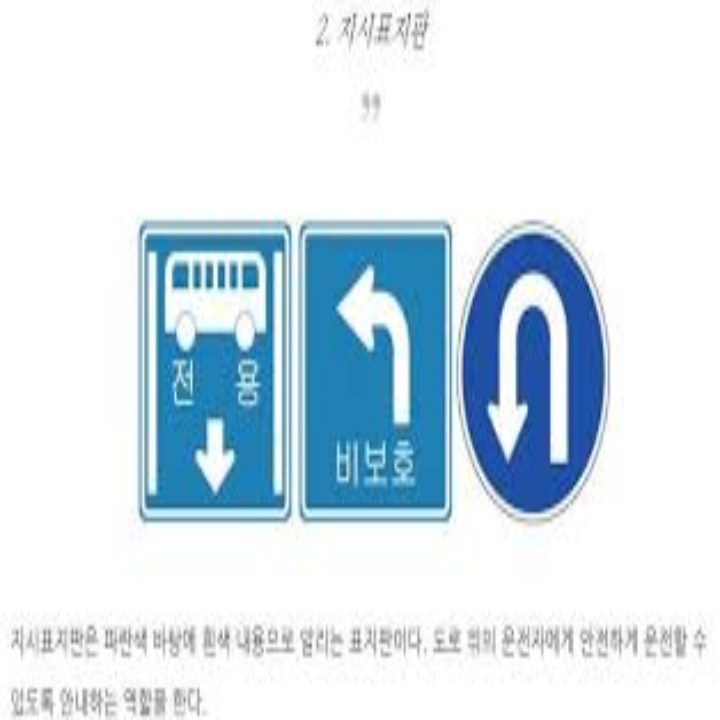bus: (165, 242, 269, 354)
